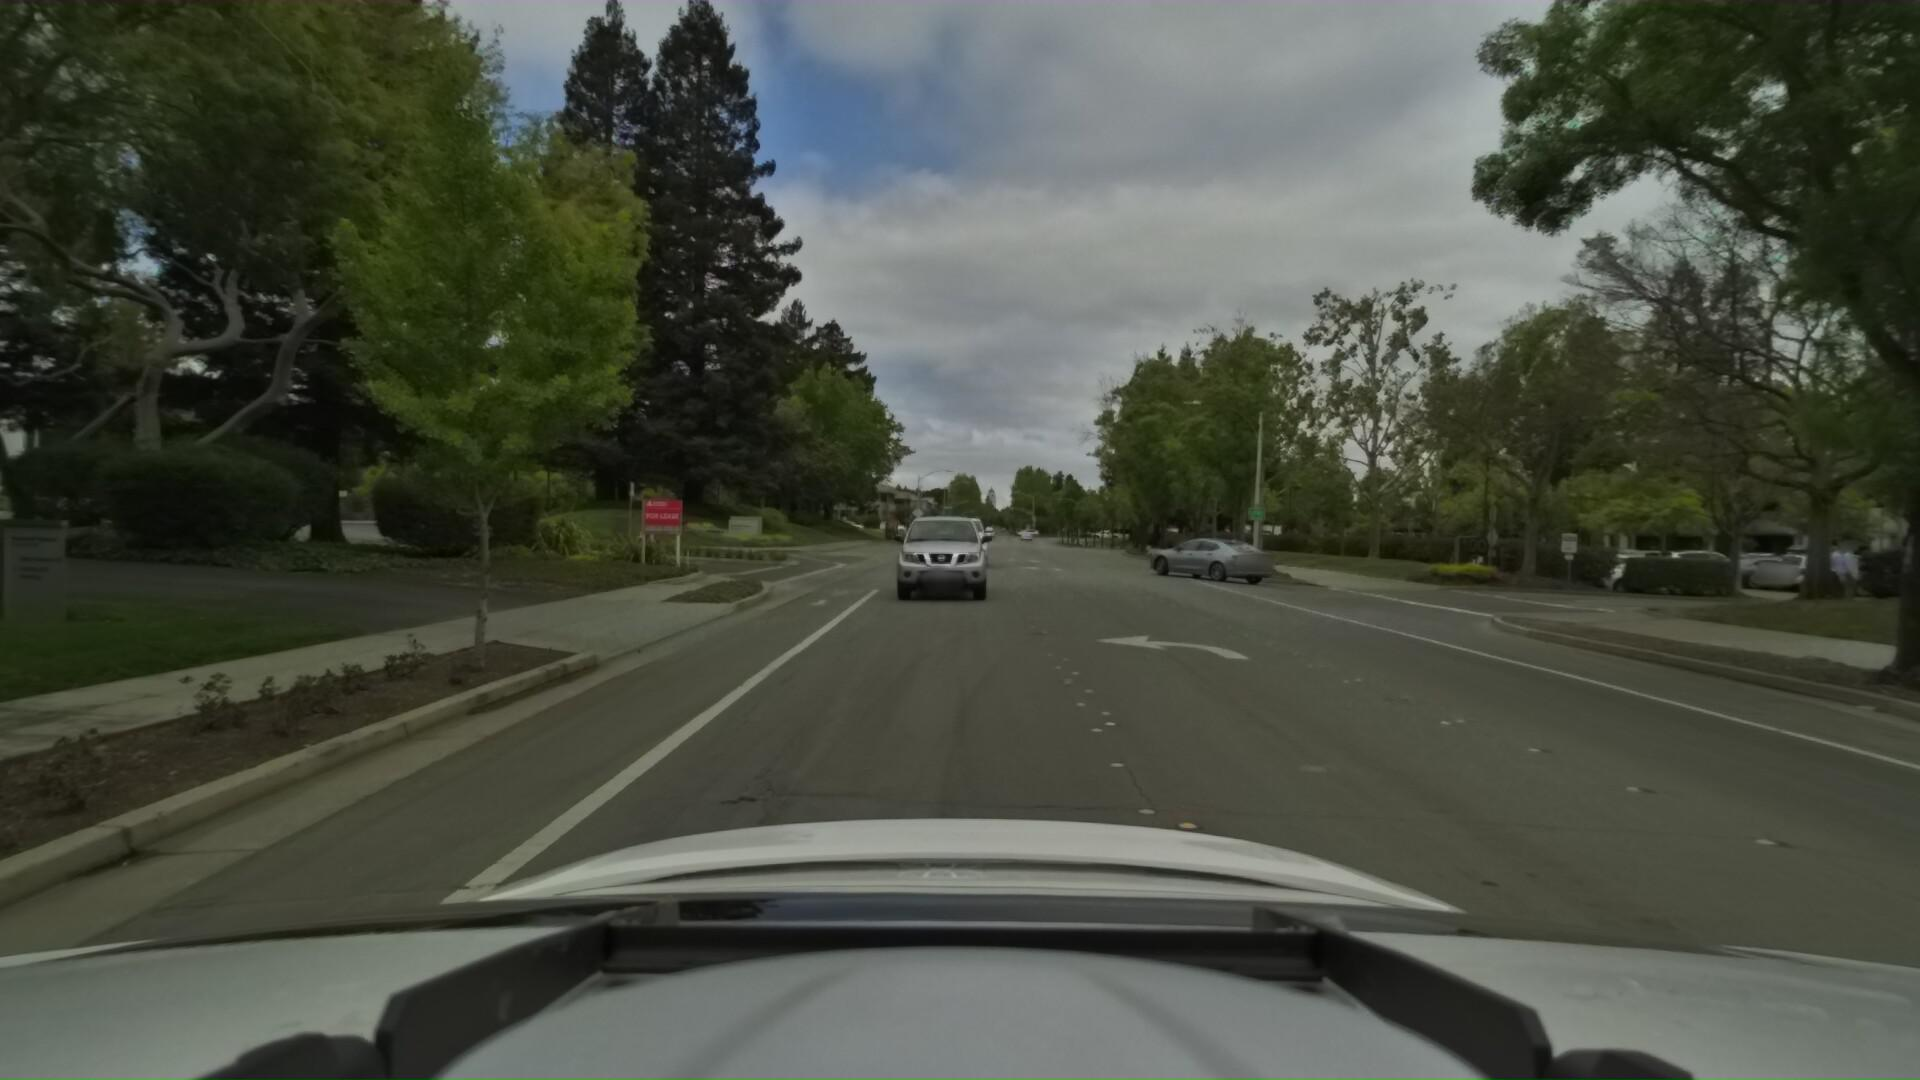car: (878, 496, 992, 607), (1131, 530, 1266, 580), (924, 502, 993, 566)
